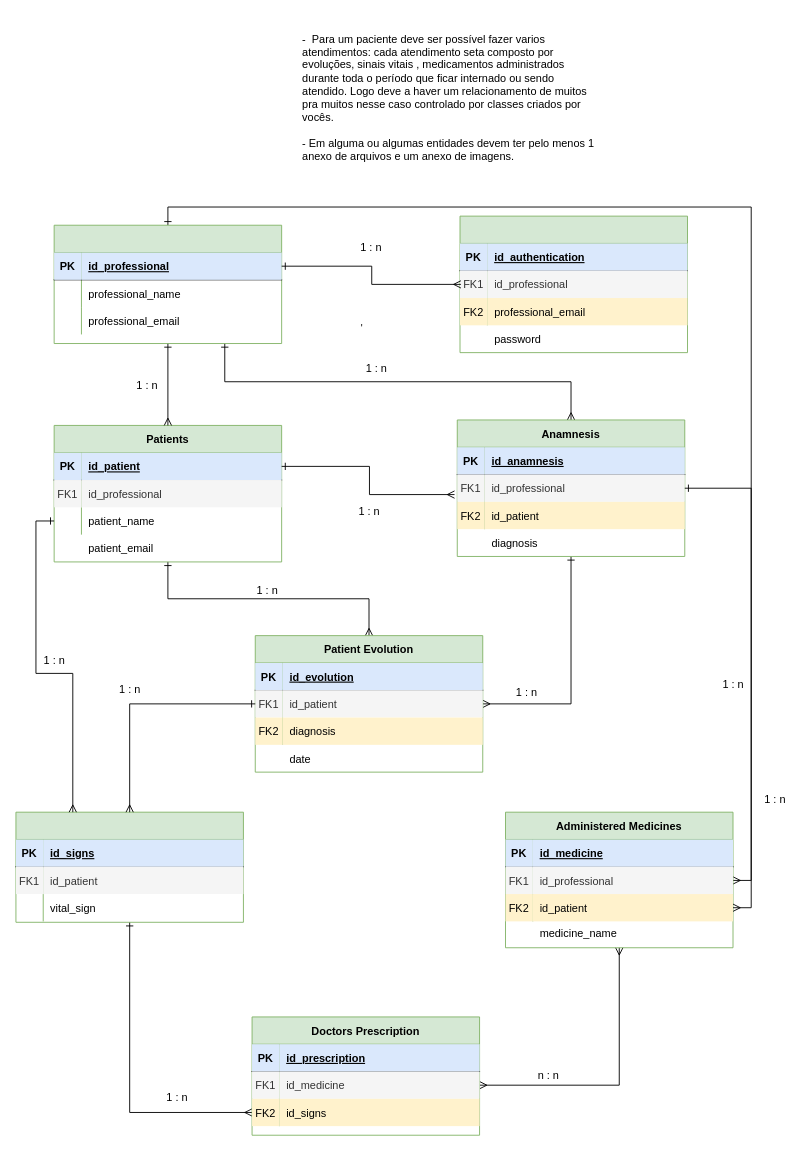
The diagram is 805 pixels wide and 1151 high, and some of its shapes have lost their labels. The box of each missing label's shape, as (x1, y1, x2, y2) in pixels:
auth_user: (459, 215, 688, 353)
Healt Professionals: (53, 224, 282, 344)
Vital Signs: (15, 811, 243, 922)
